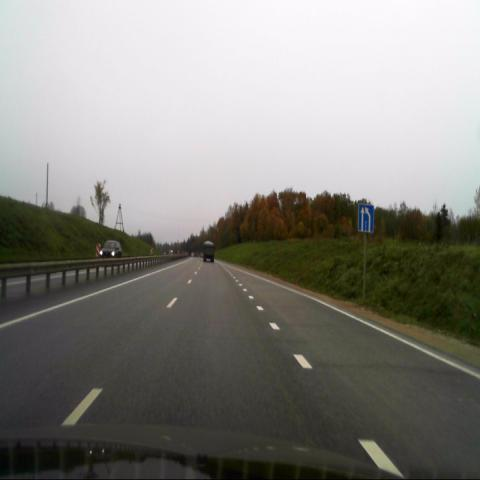5_15_5: (358, 204, 374, 233)
